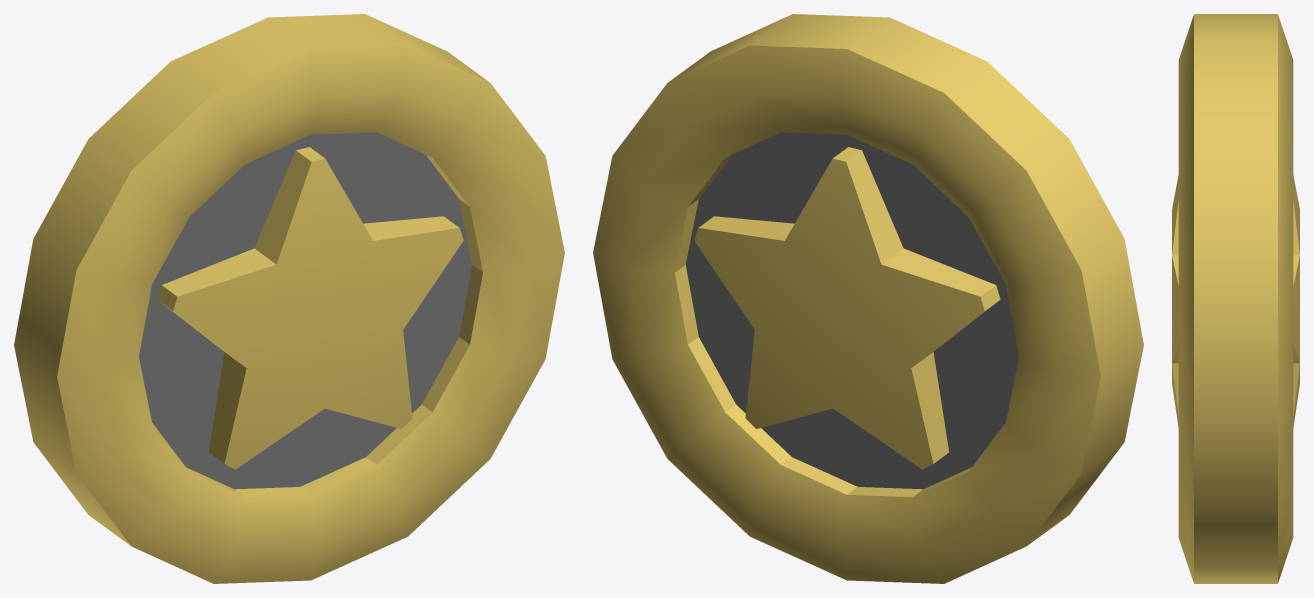
Rendered from coin 1.fbx.
The picture shows the model from 3 angles, left to right: view 1: azimuth 30°, elevation 25°; view 2: azimuth 150°, elevation 25°; view 3: azimuth 270°, elevation 25°; orthographic projection. The views are drawn at different scales.
Visible parts, largest first — view 1: coin.001; view 2: coin.001; view 3: coin.001.
Part boxes in pixels (<box>): coin.001: <box>14,14,564,583</box>; coin.001: <box>593,14,1143,583</box>; coin.001: <box>1172,14,1299,583</box>.
Bounding box in the file's own units: 1.1 × 1.1 × 0.246.
